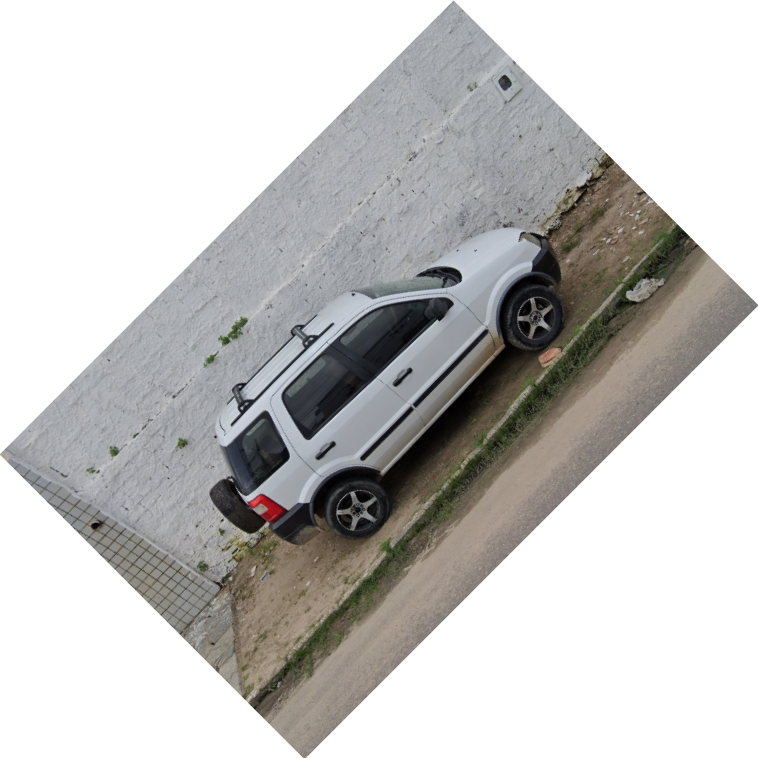car: (209, 217, 571, 581)
